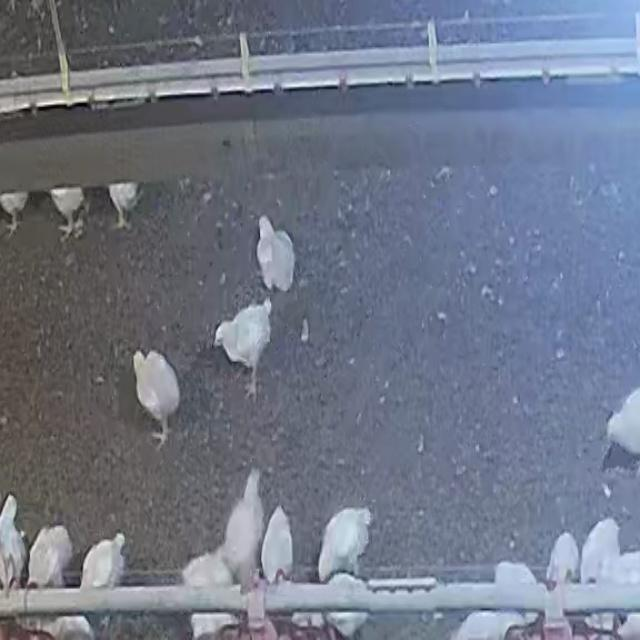chicken: (223, 468, 267, 589), (219, 301, 275, 384), (130, 351, 181, 433), (317, 506, 372, 581), (325, 572, 371, 635), (256, 218, 298, 286), (28, 524, 72, 588), (80, 534, 125, 592), (579, 516, 621, 578), (448, 609, 532, 640), (262, 505, 294, 585), (605, 387, 640, 459), (0, 493, 25, 587), (49, 188, 88, 240), (180, 550, 233, 588), (545, 530, 579, 582), (107, 185, 142, 231), (0, 191, 29, 237), (494, 562, 537, 588)
